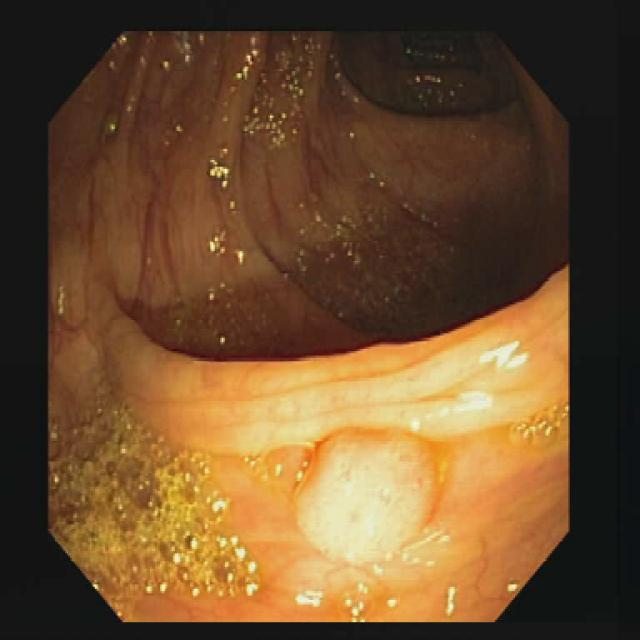tumor: (297, 429, 433, 562)
